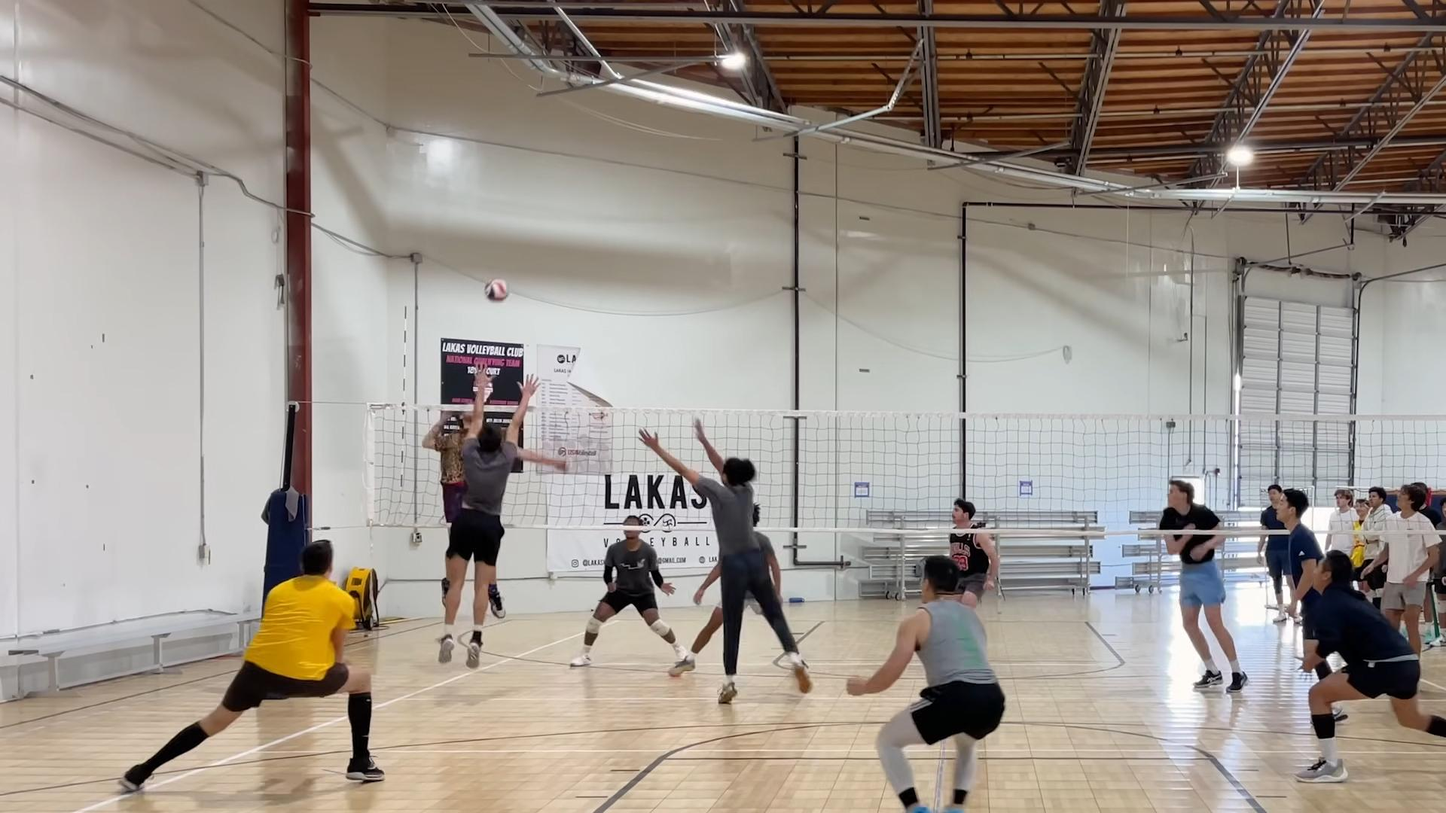attacco: (412, 388, 516, 621)
muro: (633, 418, 811, 706), (434, 364, 540, 676)
